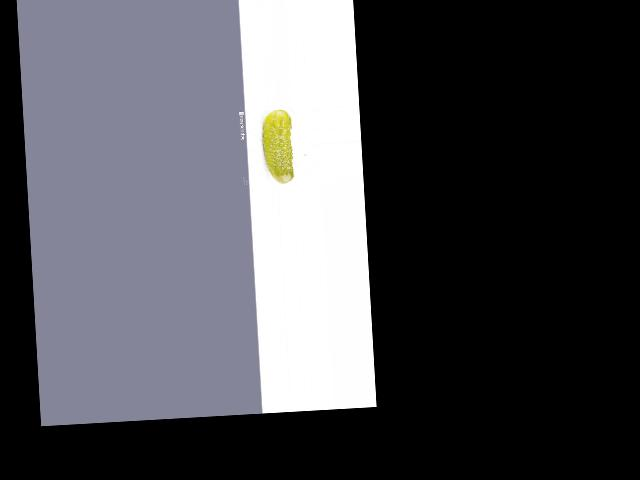cucumber: (260, 109, 294, 185)
